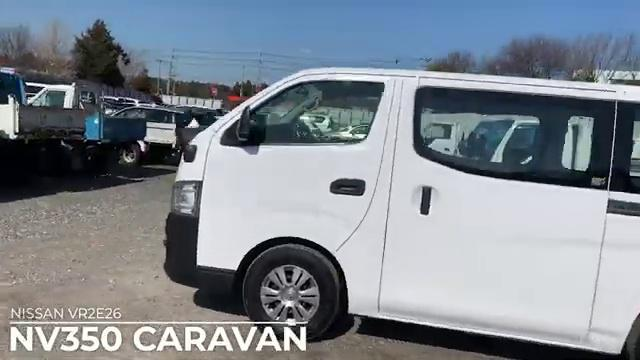Van: (165, 64, 638, 351)
